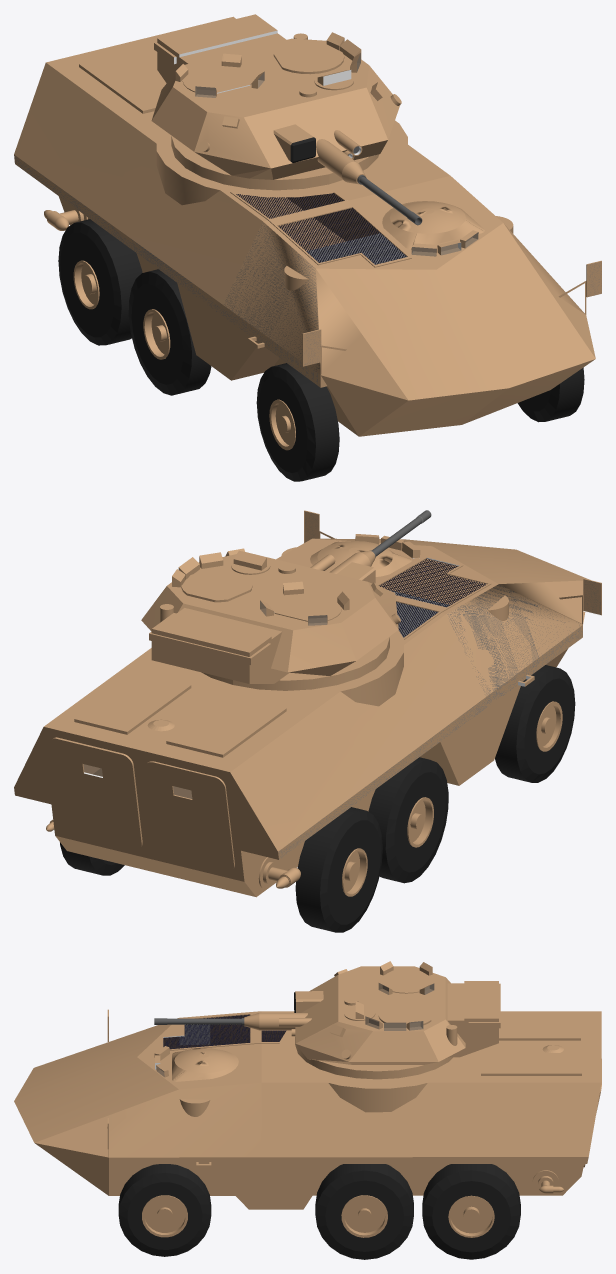
Rendered from stryker.dae.
3 views of the same model, one above another, from view 1: azimuth 30°, elevation 25°; view 2: azimuth 150°, elevation 25°; view 3: azimuth 270°, elevation 25° (orthographic). The views are drawn at different scales.
Parts seen in each view (by area): view 1: Model; view 2: Model; view 3: Model.
Part boxes in pixels (x1,y1,x2,y2): Model: [14, 14, 601, 481]; Model: [14, 510, 601, 932]; Model: [14, 961, 601, 1259].
Bounding box in the file's own units: 183 × 399 × 164.
7 materials, 1 textured.
